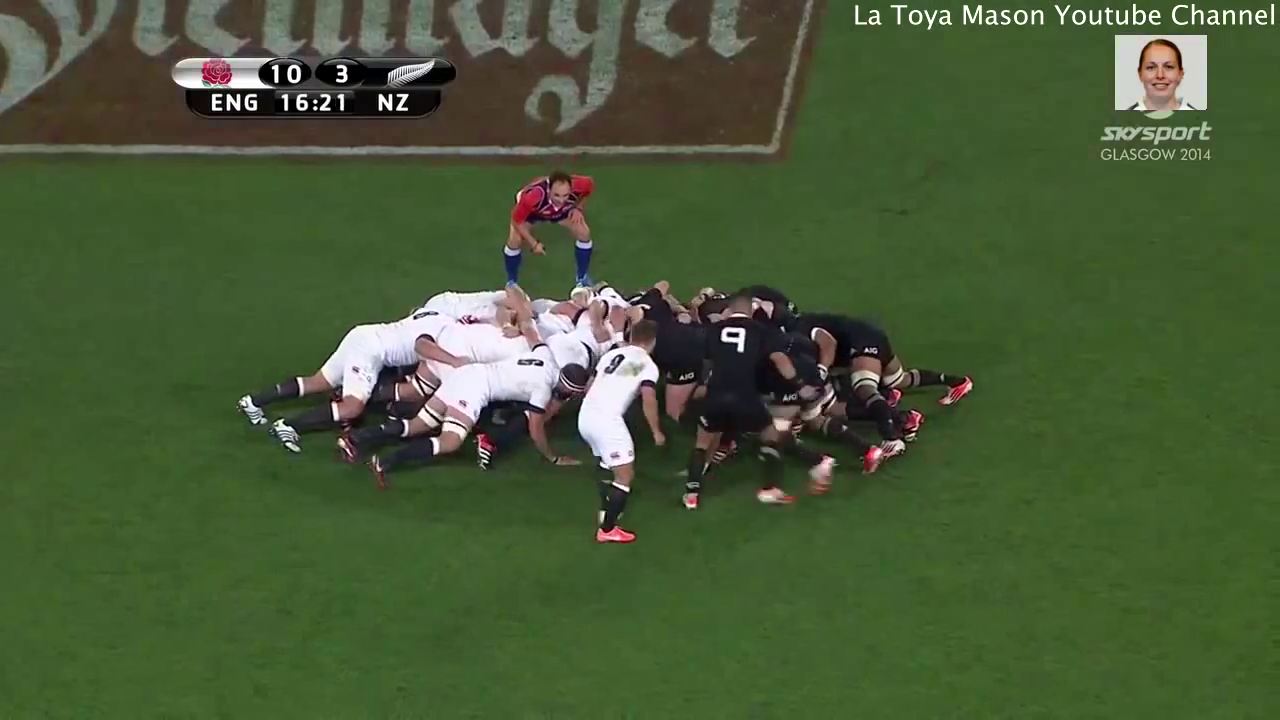player: (232, 306, 437, 457), (373, 344, 587, 480), (785, 308, 981, 447), (572, 323, 663, 555), (686, 290, 780, 512), (493, 169, 610, 286)
scrum: (239, 272, 985, 532)
